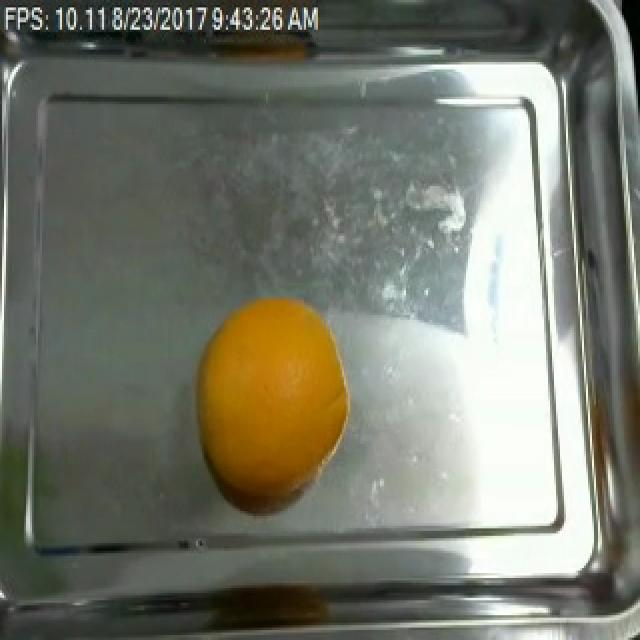Fruit: (188, 286, 354, 514)
